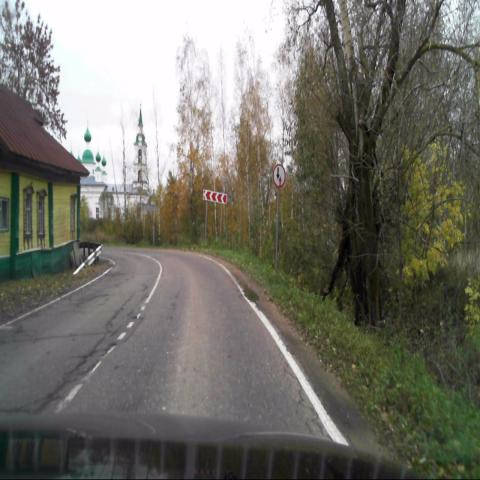2_6: (272, 163, 286, 188)
